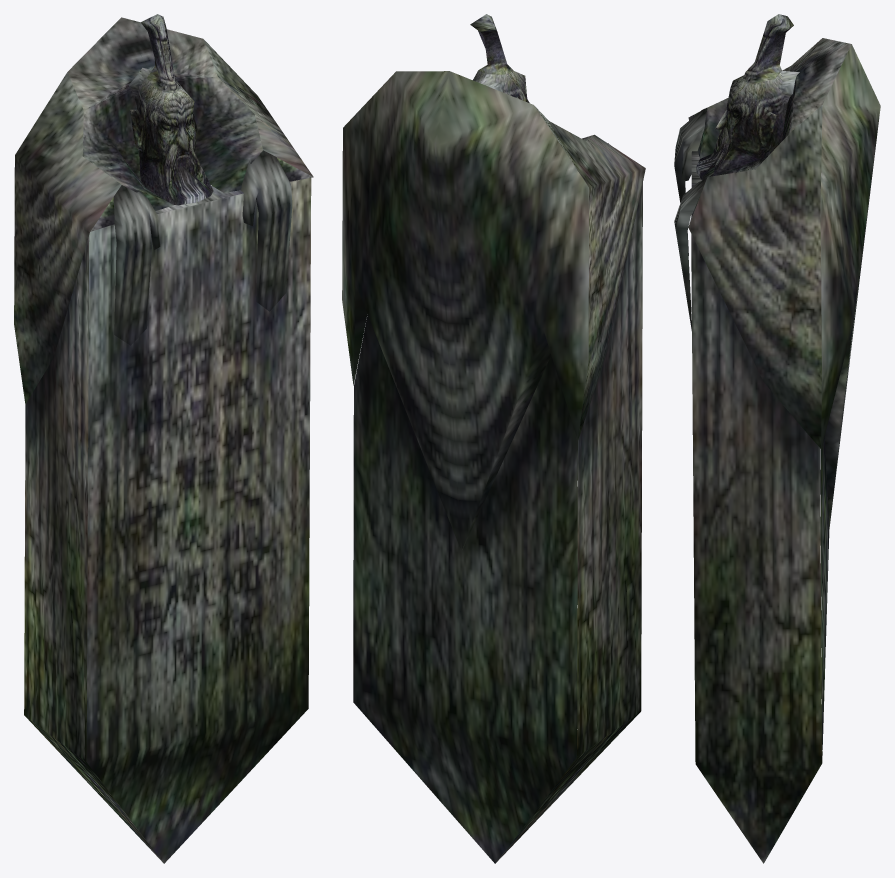
The model's file is cj_field_tomb1.glb.
3 renders of one model, left to right at view 1: azimuth 30°, elevation 25°; view 2: azimuth 150°, elevation 25°; view 3: azimuth 270°, elevation 25°, orthographic.
Parts seen in each view (by area): view 1: CJ_field_tomb1, CJ_field_tomb1_h; view 2: CJ_field_tomb1, CJ_field_tomb1_h; view 3: CJ_field_tomb1, CJ_field_tomb1_h.
Part boxes in pixels (bbox=[...]): CJ_field_tomb1: bbox=[14, 17, 313, 863]; CJ_field_tomb1_h: bbox=[128, 14, 213, 205]; CJ_field_tomb1: bbox=[342, 71, 645, 863]; CJ_field_tomb1_h: bbox=[470, 14, 529, 102]; CJ_field_tomb1: bbox=[674, 38, 880, 863]; CJ_field_tomb1_h: bbox=[696, 14, 799, 180].
Size of the model in its own units: 1.42 by 4.7 by 1.03.
2 materials, 2 textured.
